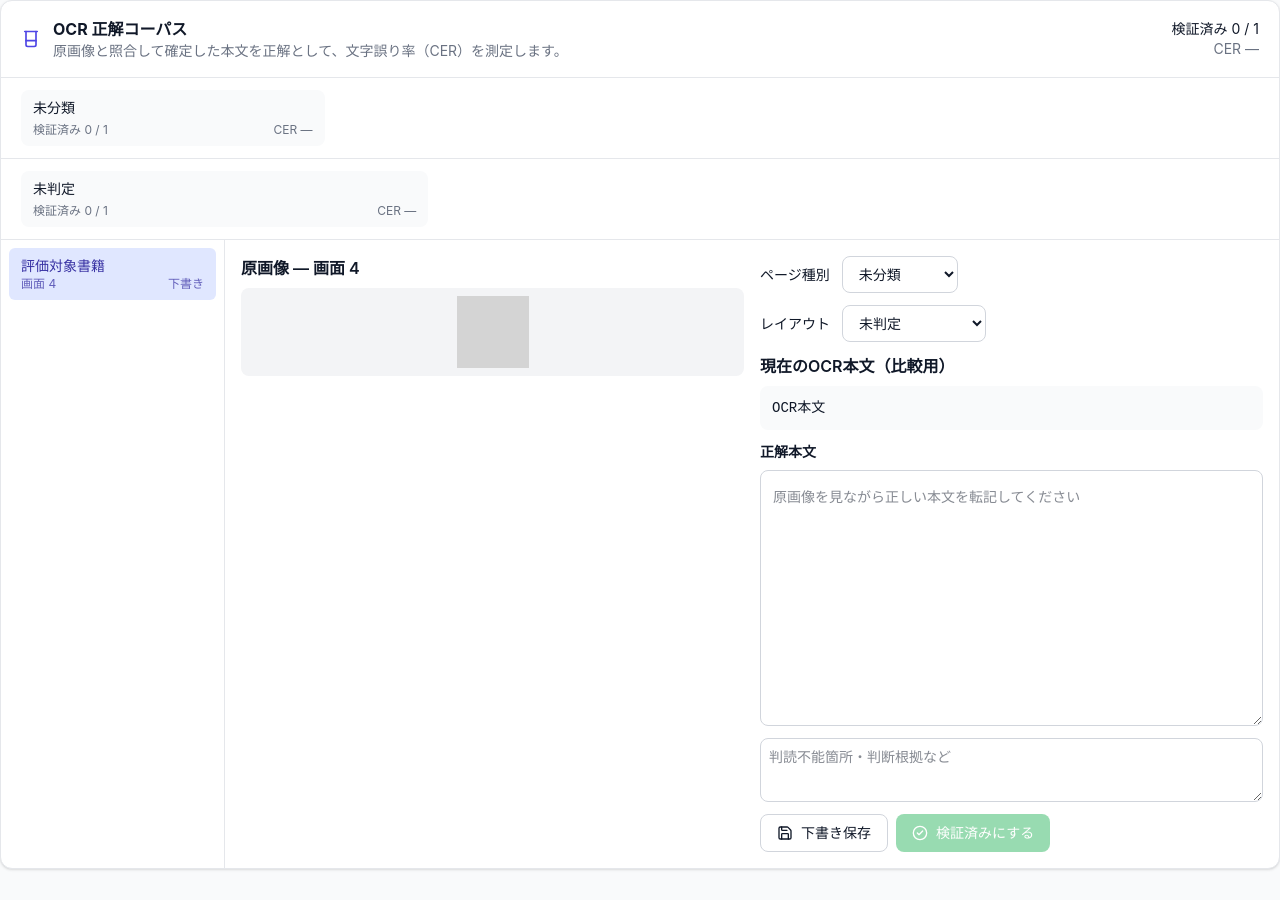
Test: OCRGroundTruthPanel › 未分類または正解本文なしでは検証済みにできない
Check: the text "評価対象書籍" is shown, box x1=21 y1=257 x2=105 y2=274
Check: the text "OCR本文" is shown, box x1=760 y1=386 x2=1263 y2=430
Select "本文" in the dropdown labelled "ページ種別": (900, 274) x1=842 y1=256 x2=958 y2=293
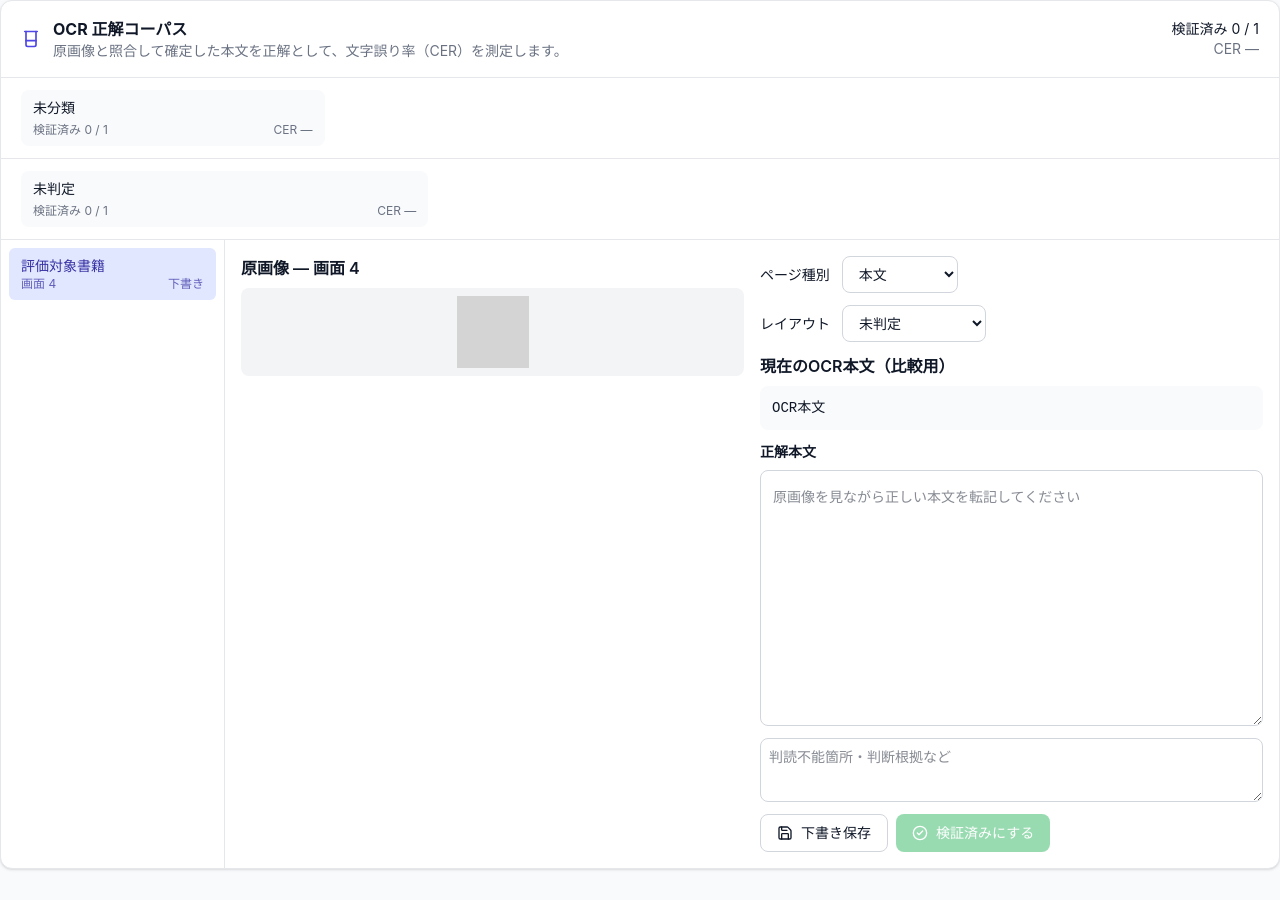
Check: the button "検証済みにする" is disabled, box x1=896 y1=814 x2=1050 y2=852
In the text box labelled "正解本文": (1012, 598) x1=760 y1=470 x2=1263 y2=726, type "正しい本文"
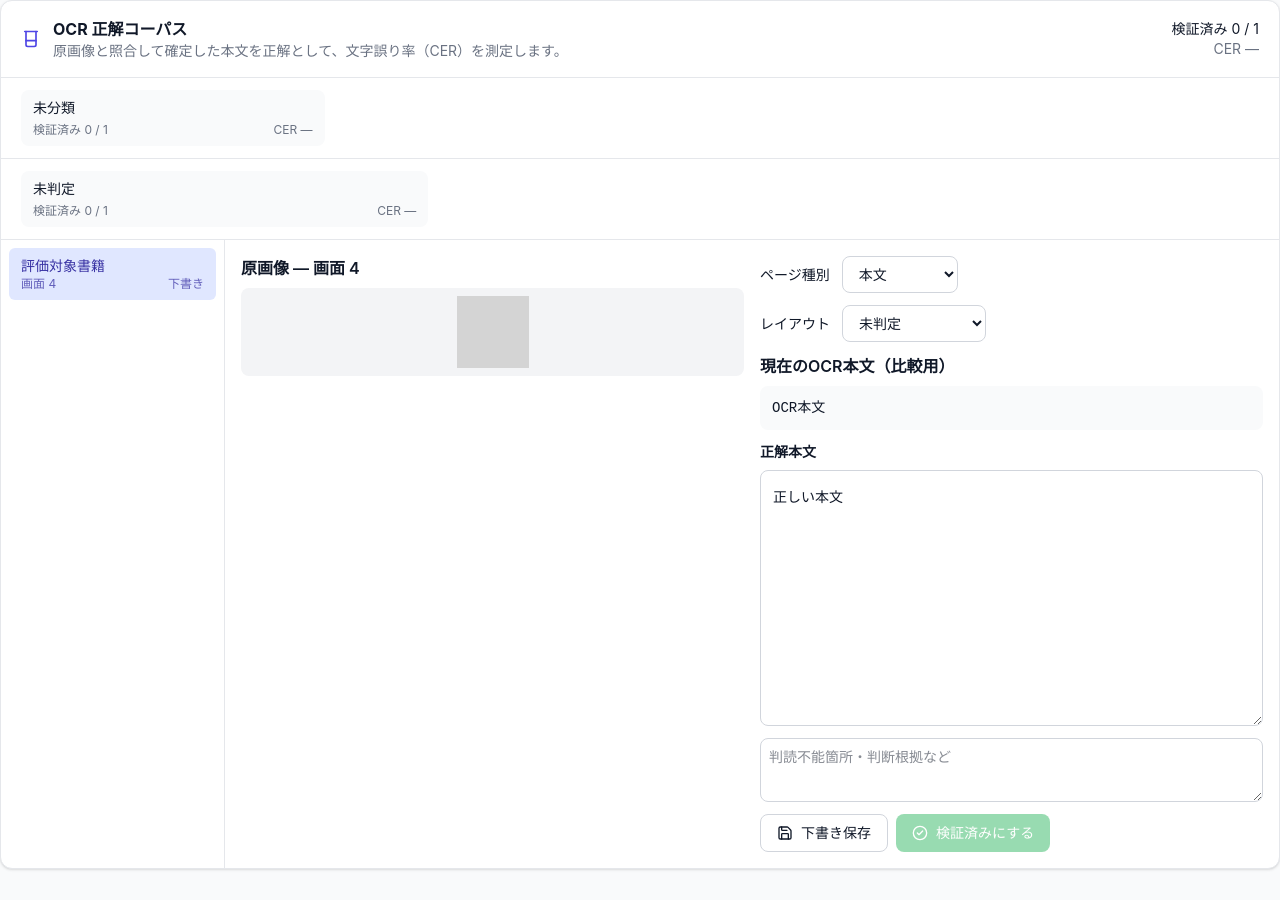
Check: the button "検証済みにする" is disabled, box x1=896 y1=814 x2=1050 y2=852
Select "通常散文" in the dropdown labelled "レイアウト": (914, 324) x1=842 y1=305 x2=986 y2=342
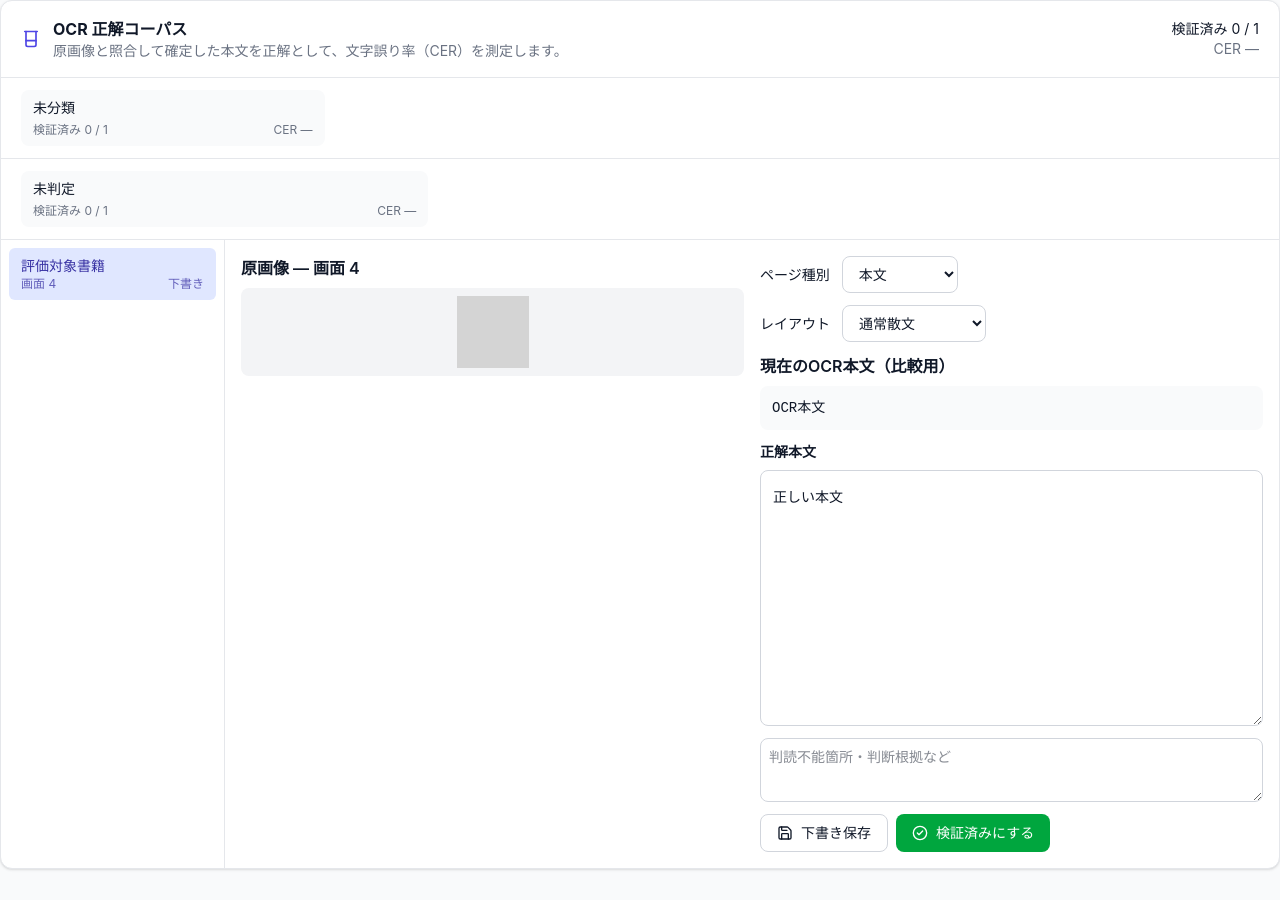
Check: the button "検証済みにする" is enabled, box x1=896 y1=814 x2=1050 y2=852
